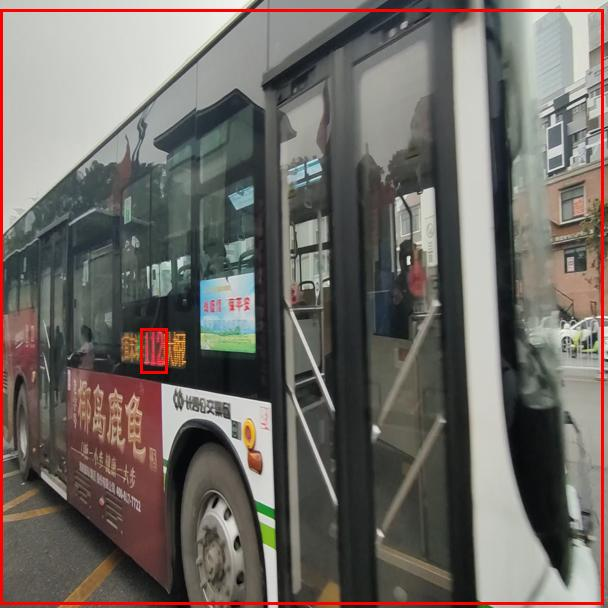bus: (0, 9, 603, 604)
screen: (140, 328, 167, 373)
